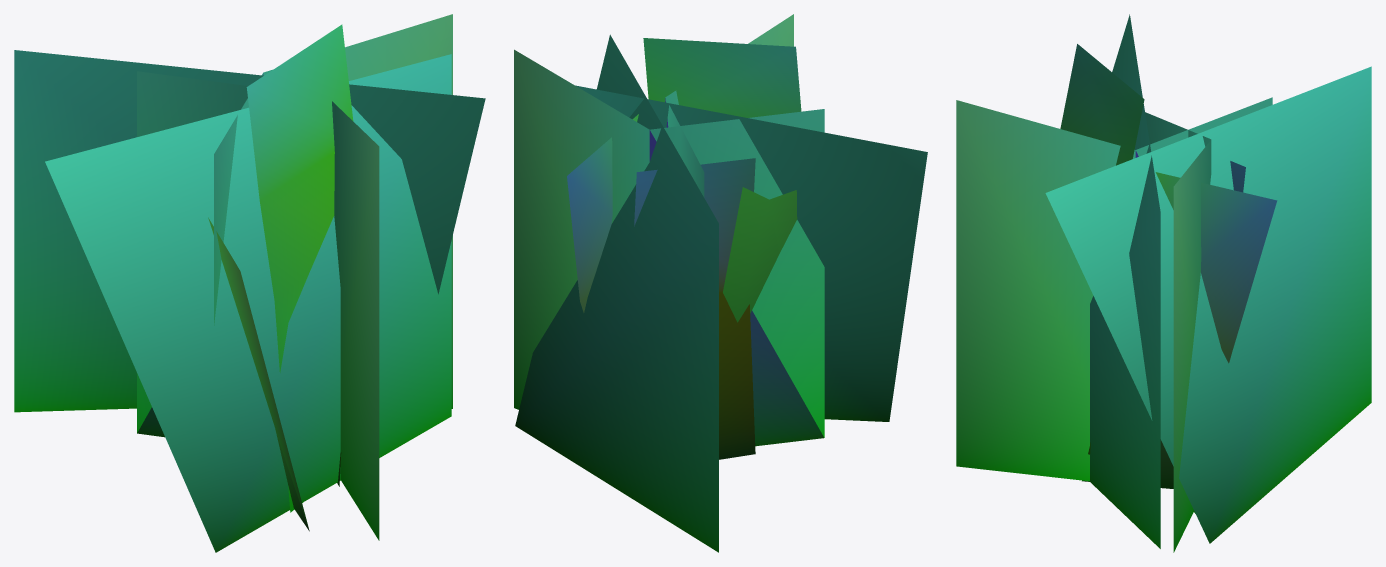
Rendered from plant_f_c_256.fbx.
3 renders of one model, left to right at view 1: azimuth 30°, elevation 25°; view 2: azimuth 150°, elevation 25°; view 3: azimuth 270°, elevation 25°, orthographic. The views are drawn at different scales.
Parts seen in each view (by area): view 1: plantfc256; view 2: plantfc256; view 3: plantfc256.
Boxes of the visible parts, <box> form: plantfc256: <box>14,14,485,552</box>; plantfc256: <box>514,14,927,552</box>; plantfc256: <box>956,14,1371,552</box>.
Bounding box in the file's own units: 1.25 × 1.18 × 1.12.
